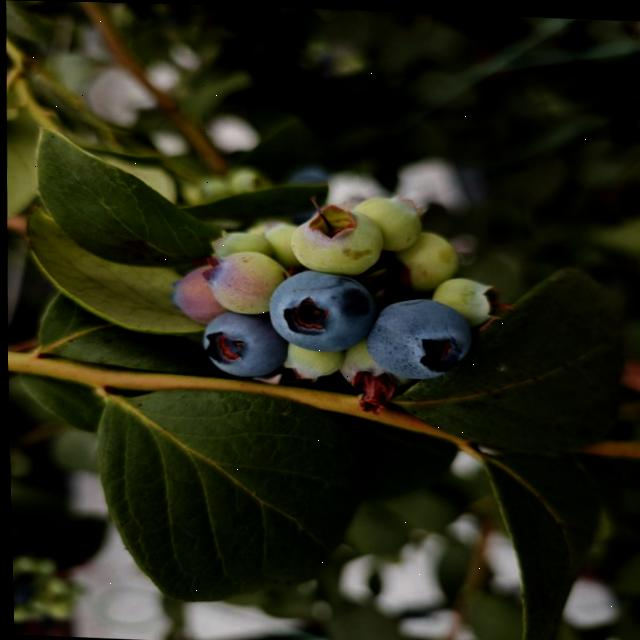RipeBlueBerry: (264, 267, 377, 352), (363, 293, 474, 379), (197, 309, 285, 378)
UnripeBlueBerry: (286, 199, 384, 273), (199, 246, 282, 311), (389, 227, 463, 287), (354, 193, 424, 251)
